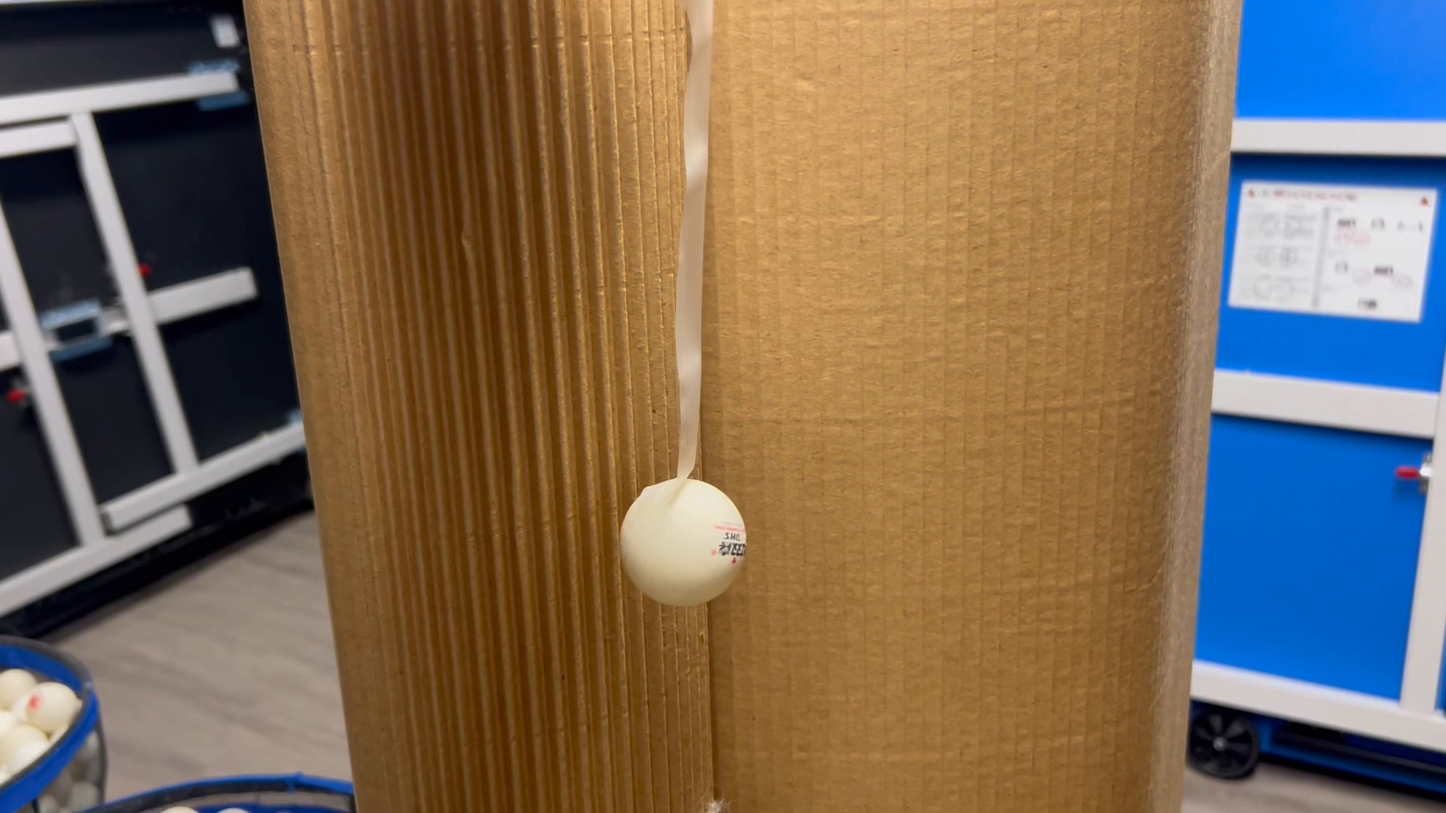Ball: (600, 482, 760, 621)
